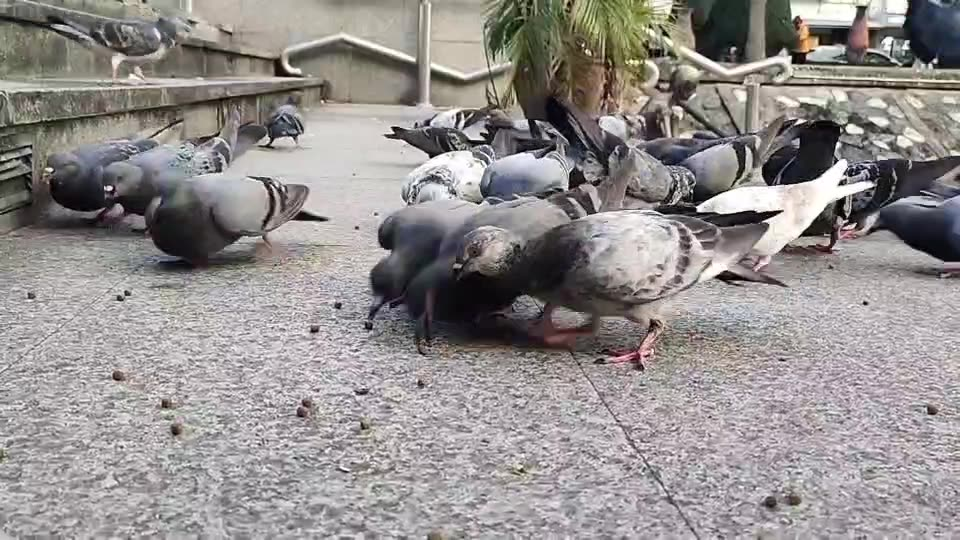Pigeon: (369, 126, 874, 346), (452, 206, 785, 371), (143, 170, 329, 268), (41, 115, 185, 224), (48, 0, 178, 85), (841, 191, 959, 278), (258, 93, 305, 148)
